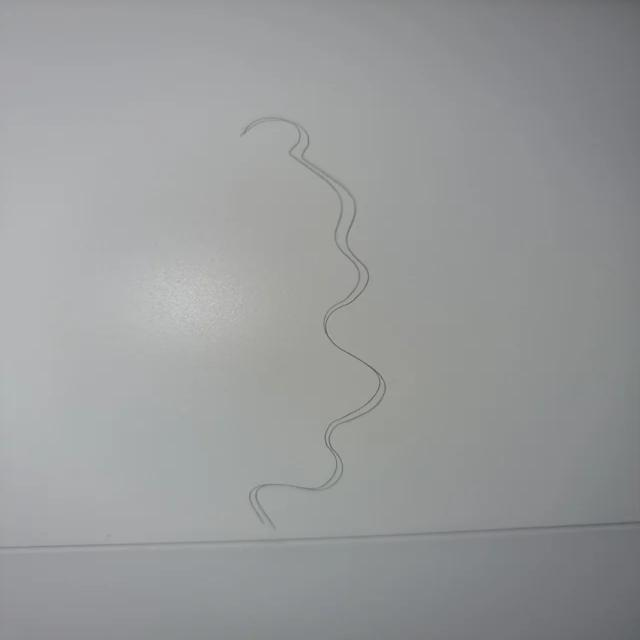hair: (232, 107, 388, 532)
